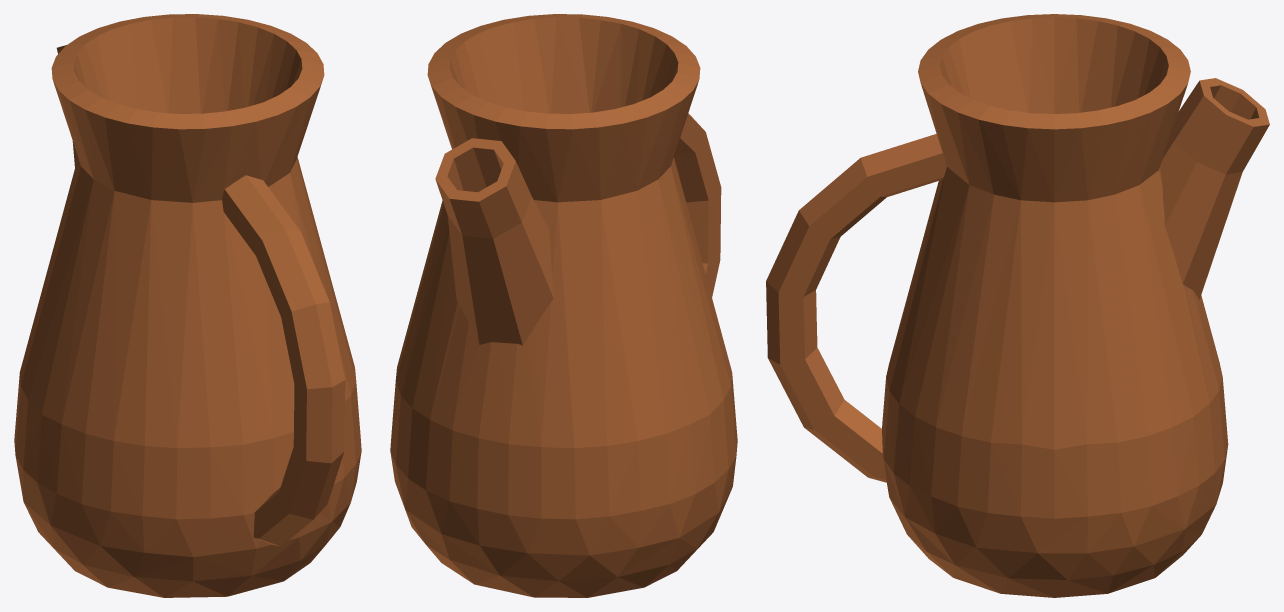
The model's file is Pottery 8_3.fbx.
3 renders of one model, left to right at view 1: azimuth 30°, elevation 25°; view 2: azimuth 150°, elevation 25°; view 3: azimuth 270°, elevation 25°, orthographic.
Visible parts, largest first — view 1: Pottery 8_3; view 2: Pottery 8_3; view 3: Pottery 8_3.
Boxes of the visible parts, box(x1,y1,x2,y2) form: Pottery 8_3: box(14, 14, 361, 597); Pottery 8_3: box(390, 14, 737, 597); Pottery 8_3: box(766, 14, 1269, 597).
Size of the model in its own units: 30.34 by 45.97 by 43.99.
